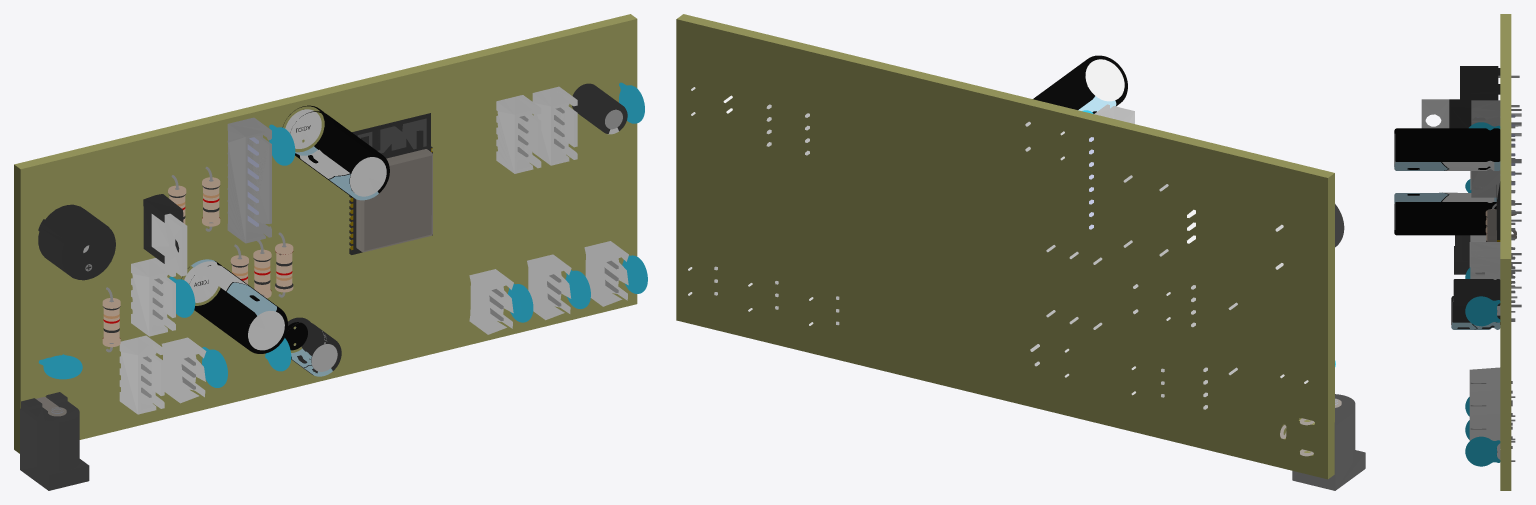
The model's file is OBJ_PCB_dashboard-iot2_2.obj.
3 renders of one model, left to right at view 1: azimuth 30°, elevation 25°; view 2: azimuth 150°, elevation 25°; view 3: azimuth 270°, elevation 25°, orthographic. The views are drawn at different scales.
Bounding box in the file's own units: 536 × 250 × 118.
